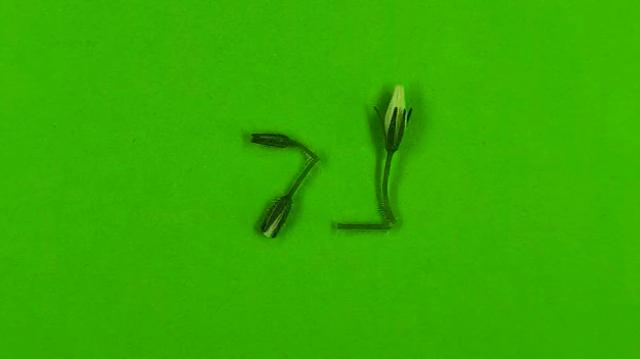Flower Bud: (381, 83, 410, 154), (259, 196, 291, 239), (250, 133, 296, 148)
